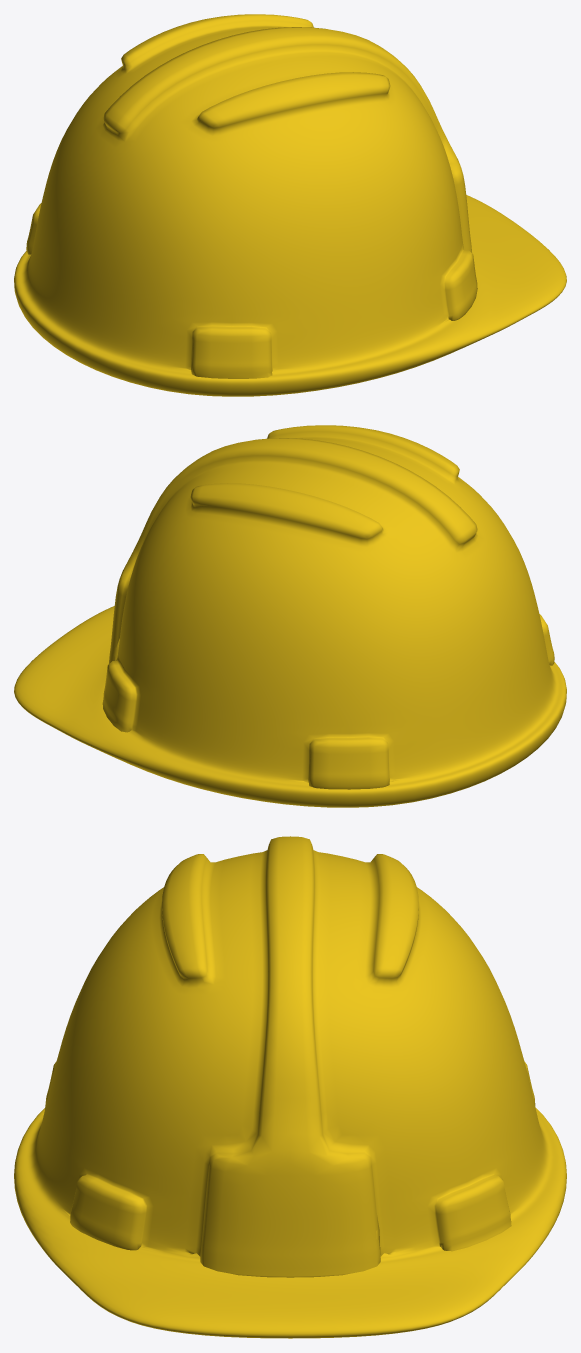
Rendered from proteccion_personal.glb.
3 views of the same model, one above another, from view 1: azimuth 30°, elevation 25°; view 2: azimuth 150°, elevation 25°; view 3: azimuth 270°, elevation 25° (orthographic). The views are drawn at different scales.
Parts seen in each view (by area): view 1: Cube; view 2: Cube; view 3: Cube.
Part boxes in pixels (left/top/right/bottom): Cube: left=14, top=14, right=566, bottom=396; Cube: left=14, top=425, right=566, bottom=807; Cube: left=14, top=836, right=566, bottom=1338.
Size of the model in its own units: 11.33 by 6.08 by 9.67.
